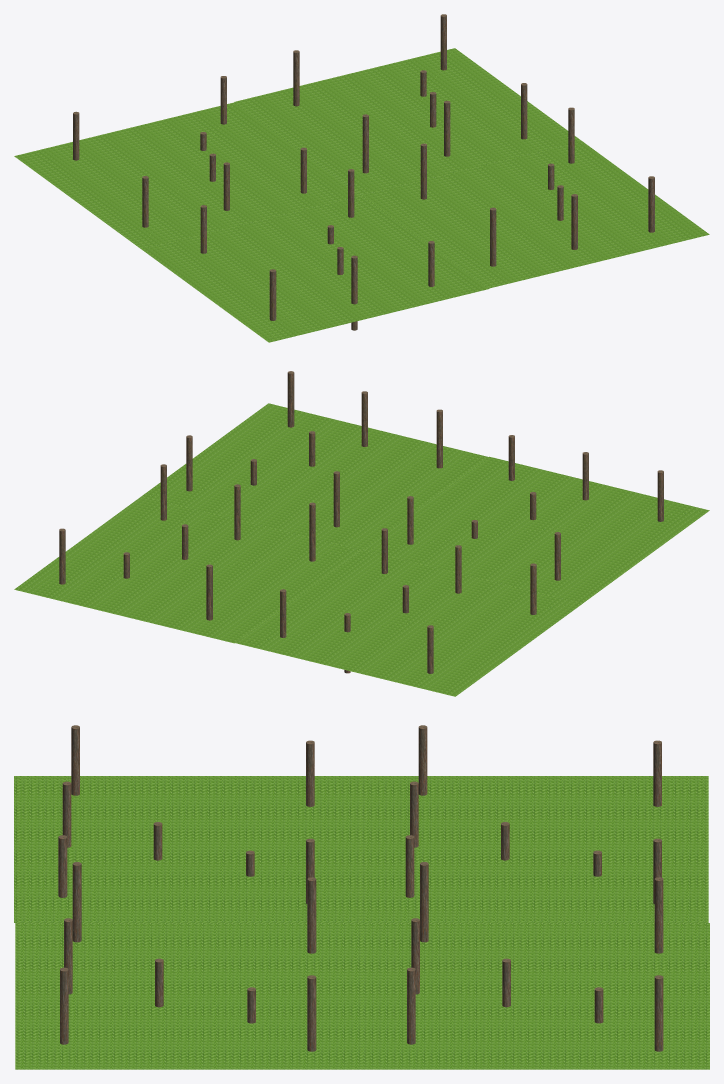
Rendered from travatla.gltf.
The picture shows the model from 3 angles, top to bottom: view 1: azimuth 30°, elevation 25°; view 2: azimuth 150°, elevation 25°; view 3: azimuth 270°, elevation 25°; orthographic projection. The views are drawn at different scales.
Visible parts, largest first — view 1: Plane.001, Plane, Plane.003, Plane.002; view 2: Plane.003, Plane.002, Plane.001, Plane; view 3: Plane, Plane.002, Plane.003, Plane.001, Cylinder.006, Cylinder.004, Cylinder.005, Cylinder.020, Cylinder.021, Cylinder.022, Cylinder.030, Cylinder.007 (+10 smaller).
Boxes of the visible parts, x1,y1,x2,y2 form: Plane.001: (142,195,489,342); Plane: (362,141,709,288); Plane.003: (14,102,361,249); Plane.002: (234,48,581,194); Plane.003: (235,550,582,696); Plane.002: (14,496,361,643); Plane.001: (362,456,709,603); Plane: (141,403,488,550); Plane: (15,923,362,1069); Plane.002: (362,923,709,1069); Plane.003: (361,776,708,922); Plane.001: (14,776,361,922); Cylinder.006: (72,862,81,942); Cylinder.004: (307,877,316,953); Cylinder.005: (307,975,316,1051); Cylinder.020: (654,877,663,953); Cylinder.021: (654,975,663,1051); Cylinder.022: (420,862,428,942); Cylinder.030: (418,725,427,795); Cylinder.007: (60,967,68,1044).
Bounding box in the file's own units: 160 × 33.81 × 160.
Materials: 2 (2 with a texture image).
